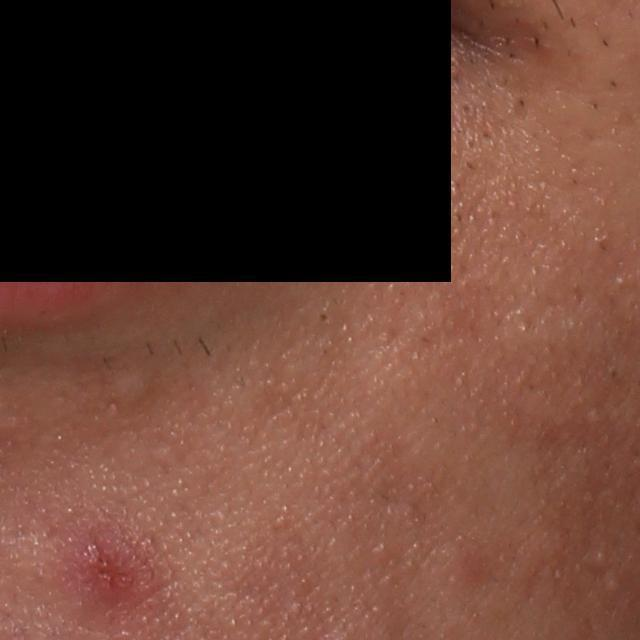hypertrophic_scar: (108, 364, 157, 407)
papule: (76, 537, 123, 592)
